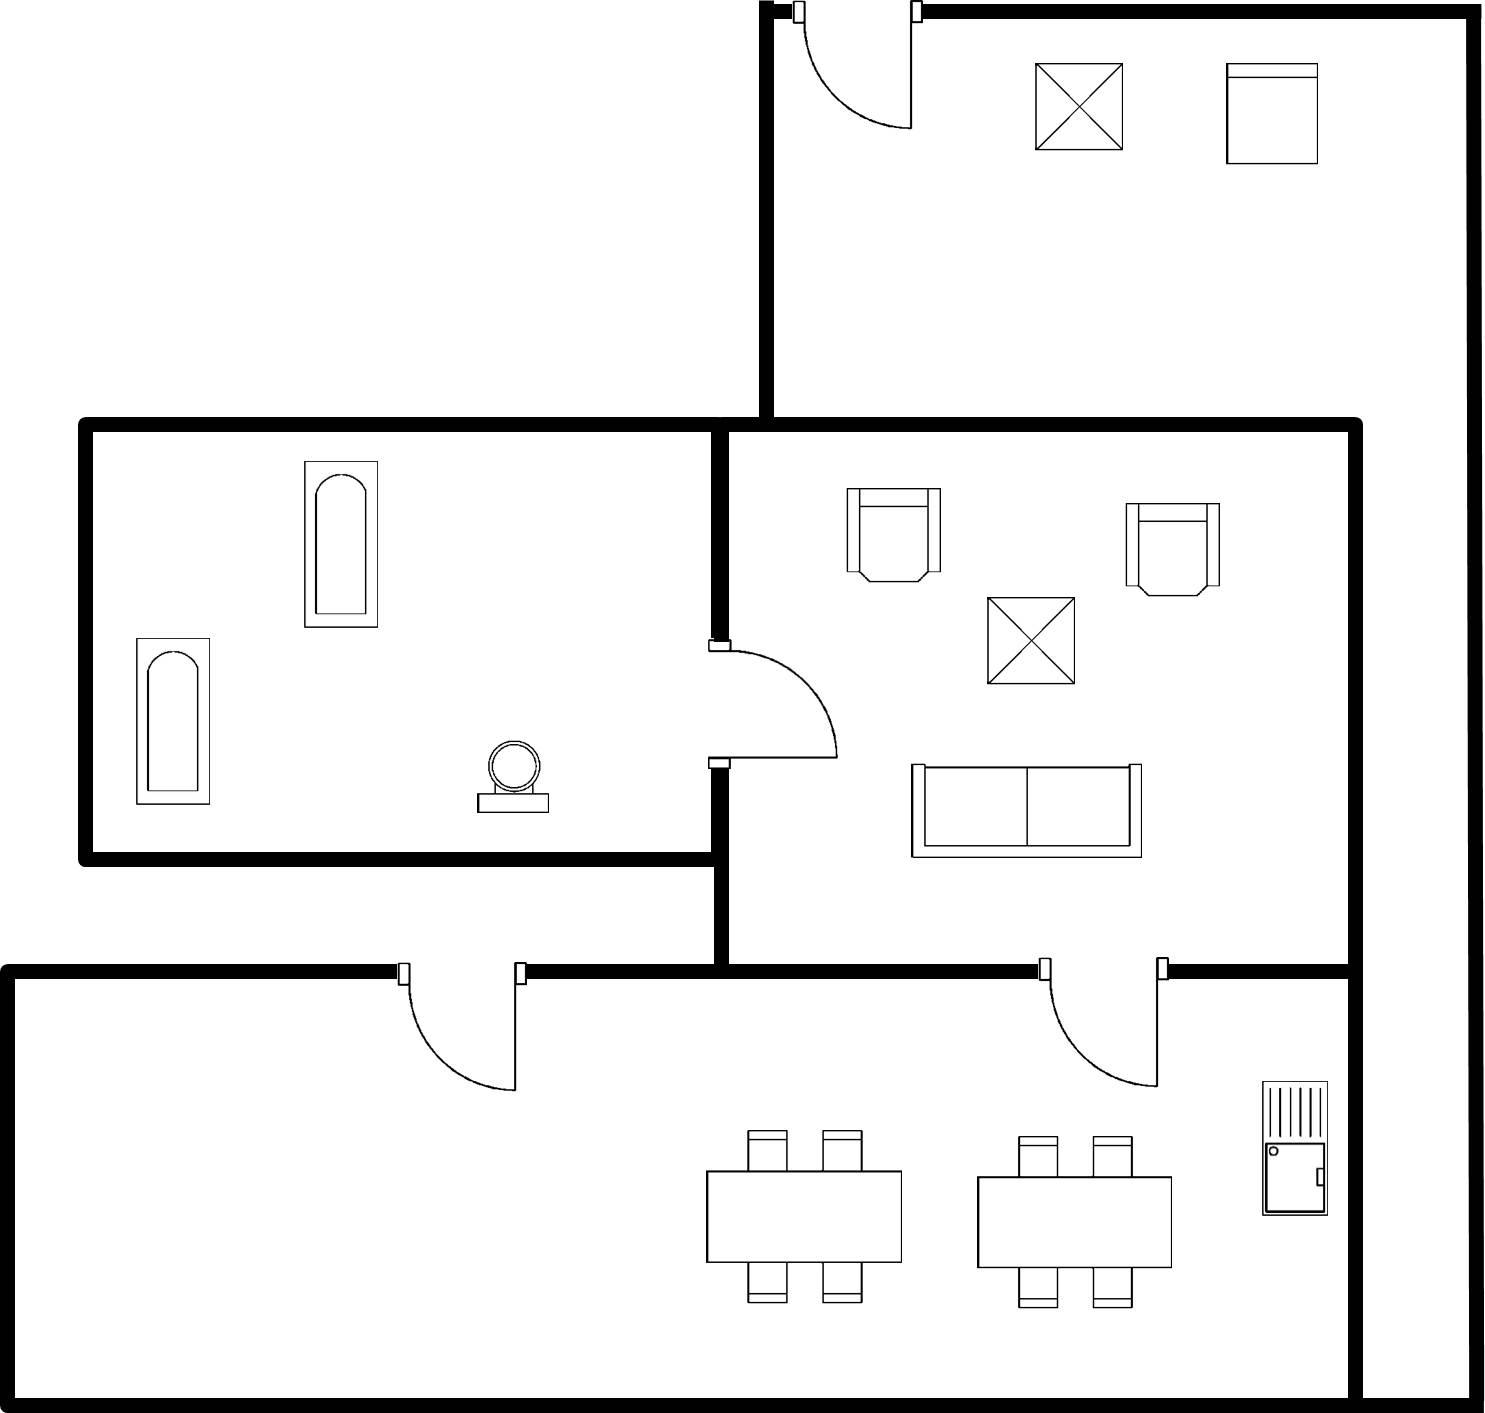dining_table: (693, 1113, 918, 1312), (968, 1121, 1184, 1314)
sink: (1252, 1068, 1333, 1227)
sofa: (894, 752, 1154, 875)
toilet: (468, 730, 561, 820)
tub: (125, 628, 221, 817), (292, 453, 385, 643)
